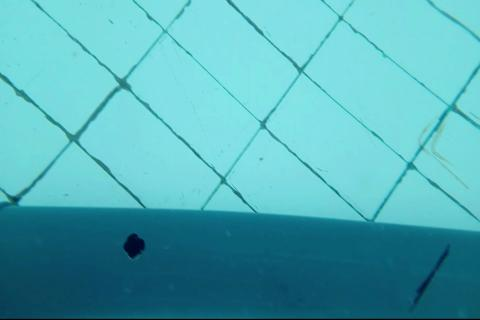kebocoran: (122, 232, 146, 262)
keretakan: (408, 243, 450, 313)
